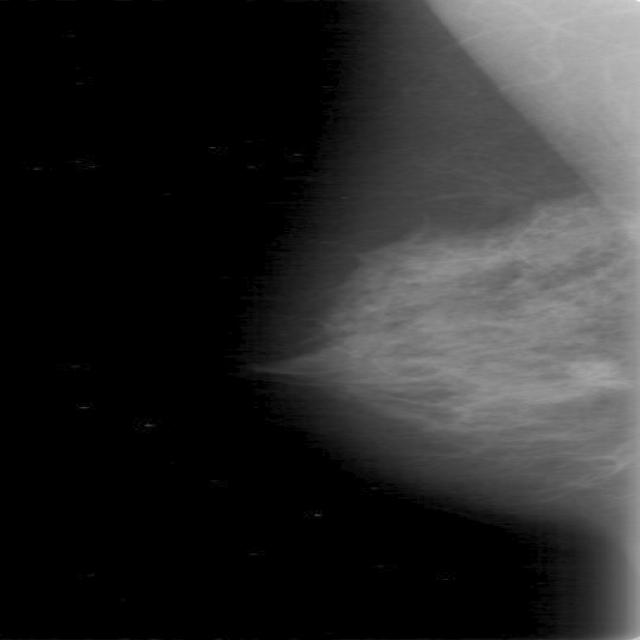tumour: (562, 354, 623, 390)
